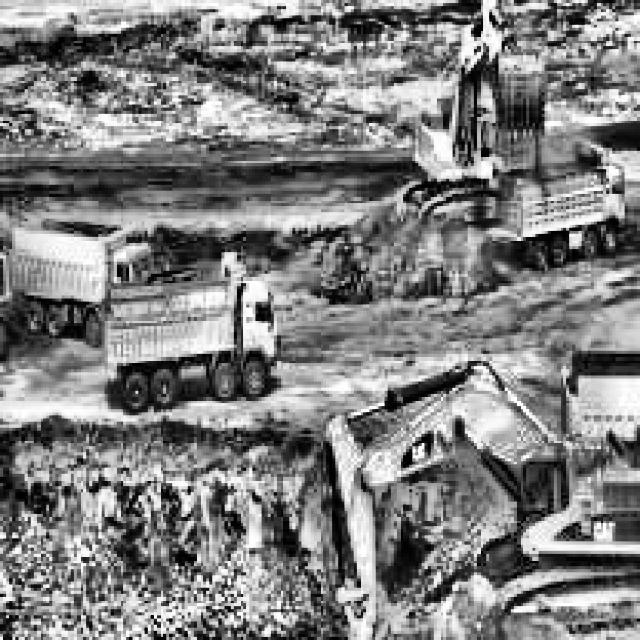dump_truck: (109, 288, 291, 402), (489, 128, 625, 263), (15, 216, 144, 330), (569, 357, 640, 486)
excavator: (320, 347, 640, 640), (394, 0, 544, 237)
